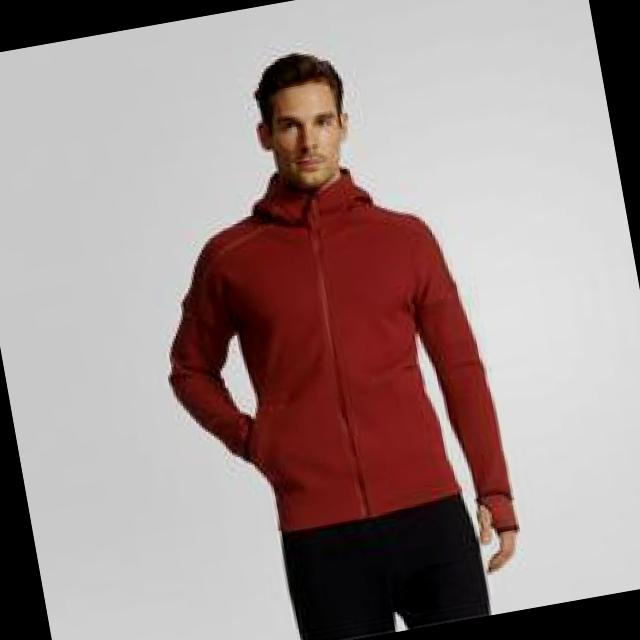sweater: (136, 148, 521, 588)
